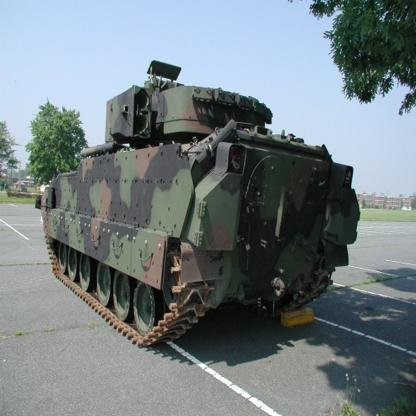Tank: (33, 69, 362, 358)
